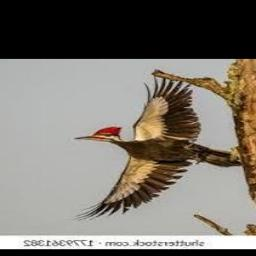Woodpecker: (70, 76, 245, 223)
